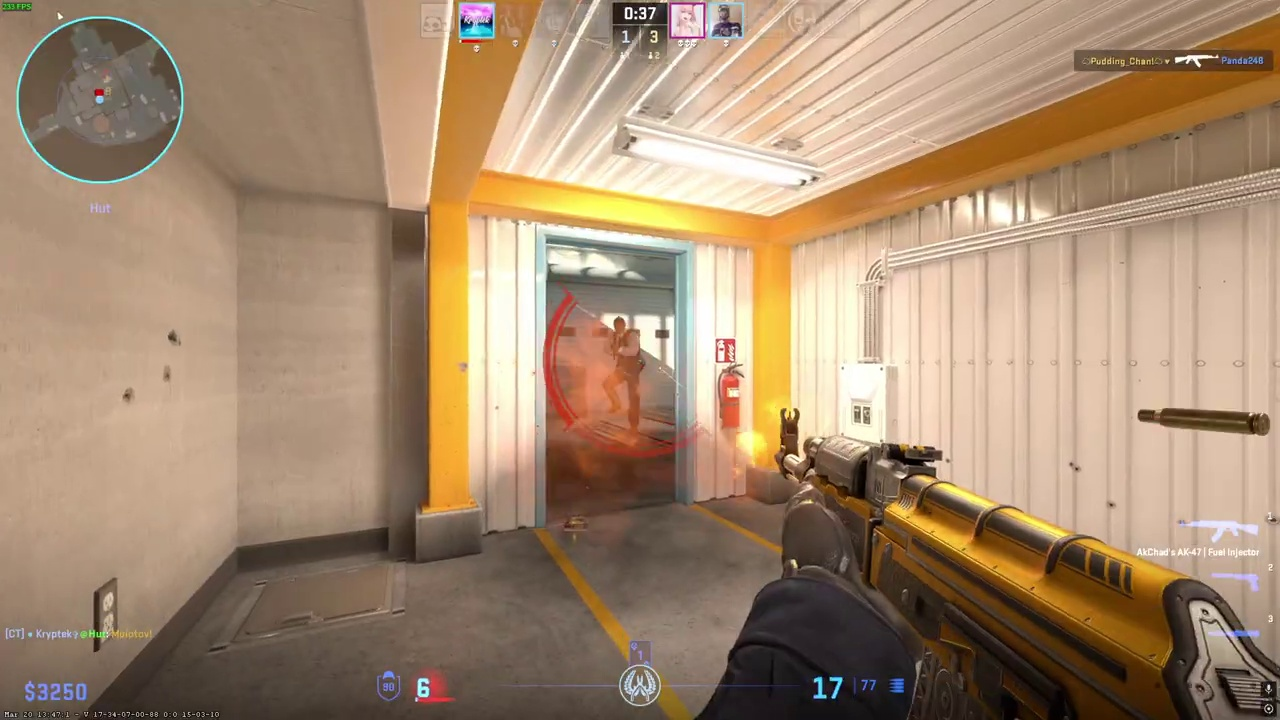Terrorist: (602, 315, 647, 433)
